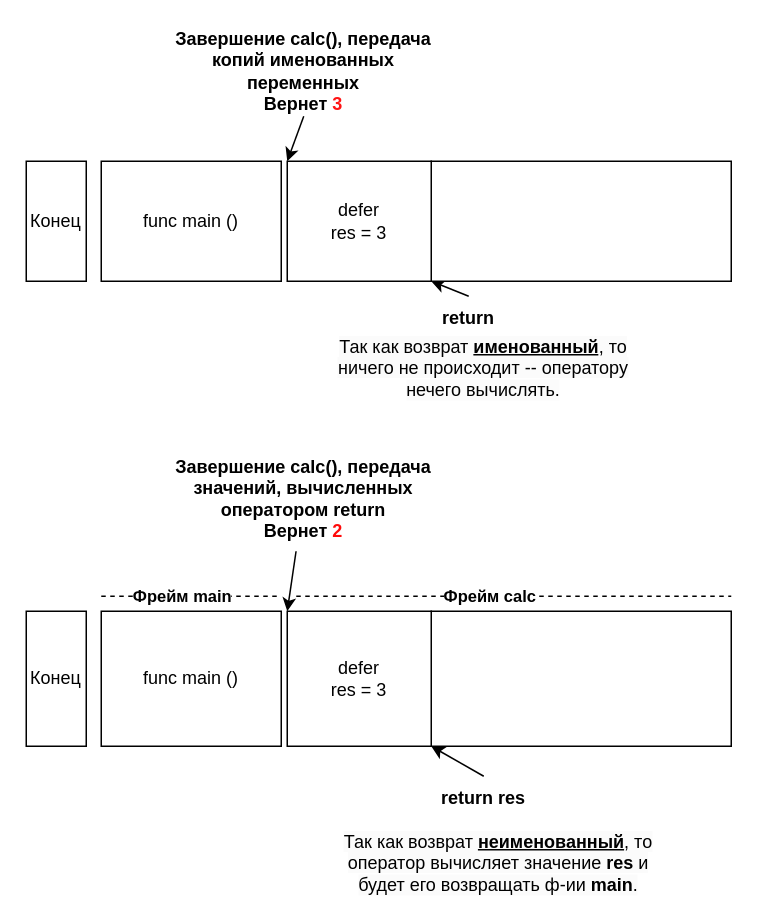
Some shapes in this 759 by 921 pixel diagram are drawn without their labels. The shapes that lost their labels are listed below. From the top down, each one's centre as x and y in pixels, then its label:
At point 580,220: "func calc() (res int) { res := 2 defer func () { res = 3 } return }".
At point 580,678: "func calc() (int) { res := 2 defer func () { res = 3 } return res }".
